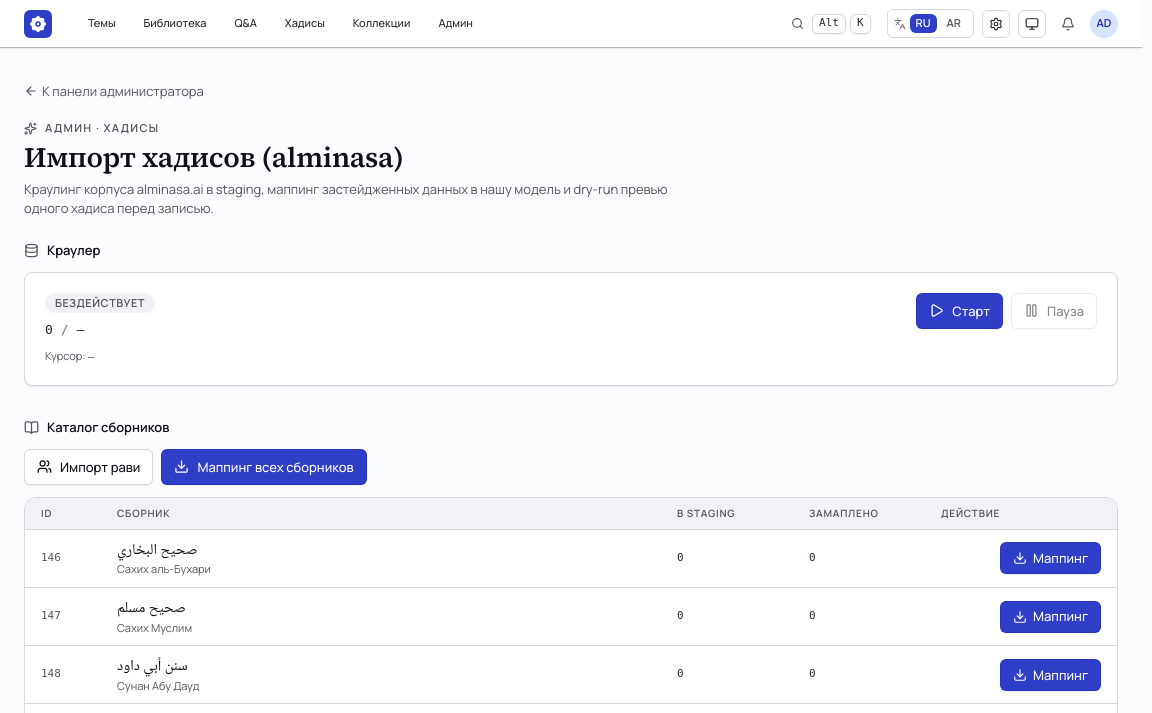
AdminHadithImportPage › 409 при запуске импорта показывает toast «импорт уже идёт»
Step 1. Click the button "Маппинг всех сборников" → (264, 467), box [161,449,367,485]
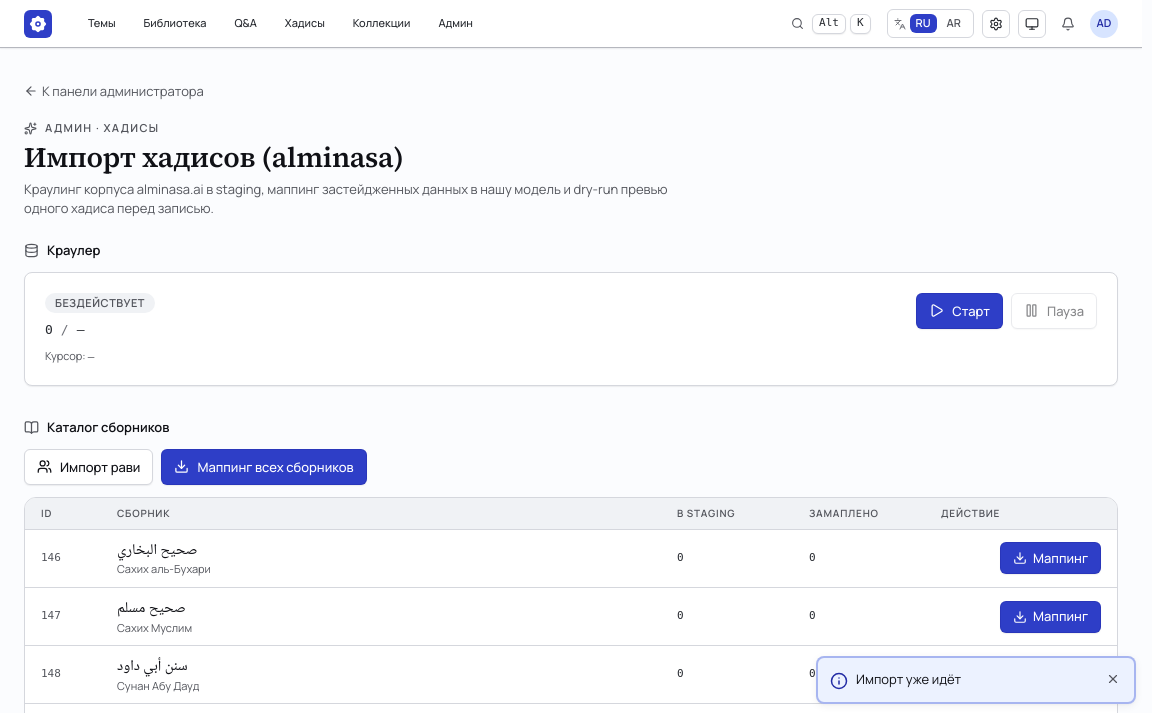
Expected: the text "Импорт уже идёт" is shown, [856,670,961,688]
